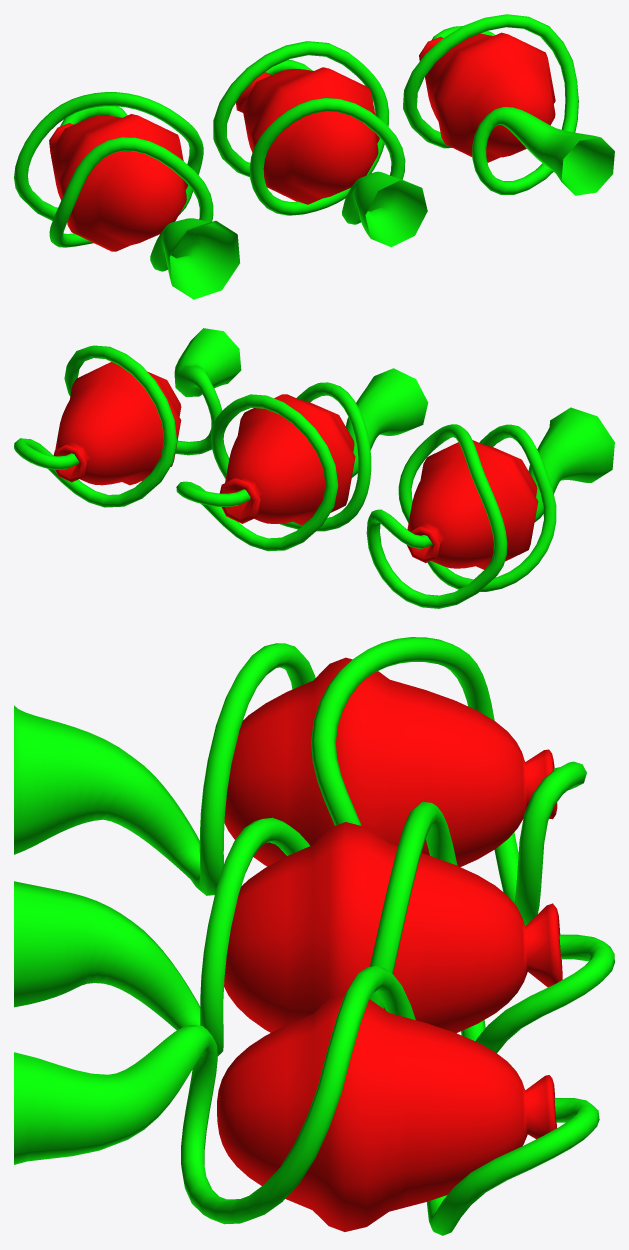
Rendered from A  Plants.fbx.
3 renders of one model, top to bottom at view 1: azimuth 30°, elevation 25°; view 2: azimuth 150°, elevation 25°; view 3: azimuth 270°, elevation 25°, orthographic. The views are drawn at different scales.
Visible parts, largest first — view 1: A Planet Var 3N_low, A Planet Var 2N_low, A Planet 1 Var 1N_low; view 2: A Planet Var 3N_low, A Planet Var 2N_low, A Planet 1 Var 1N_low; view 3: A Planet 1 Var 1N_low, A Planet Var 2N_low, A Planet Var 3N_low.
Boxes of the visible parts, left/top/right/bottom form: A Planet Var 3N_low: left=14, top=92, right=239, bottom=299; A Planet Var 2N_low: left=213, top=41, right=427, bottom=247; A Planet 1 Var 1N_low: left=403, top=14, right=614, bottom=195; A Planet Var 3N_low: left=366, top=407, right=614, bottom=608; A Planet Var 2N_low: left=176, top=368, right=428, bottom=551; A Planet 1 Var 1N_low: left=14, top=328, right=241, bottom=507; A Planet 1 Var 1N_low: left=14, top=966, right=599, bottom=1235; A Planet Var 2N_low: left=14, top=801, right=614, bottom=1056; A Planet Var 3N_low: left=14, top=637, right=586, bottom=926.
Bounding box in the file's own units: 1344 × 386 × 773.
